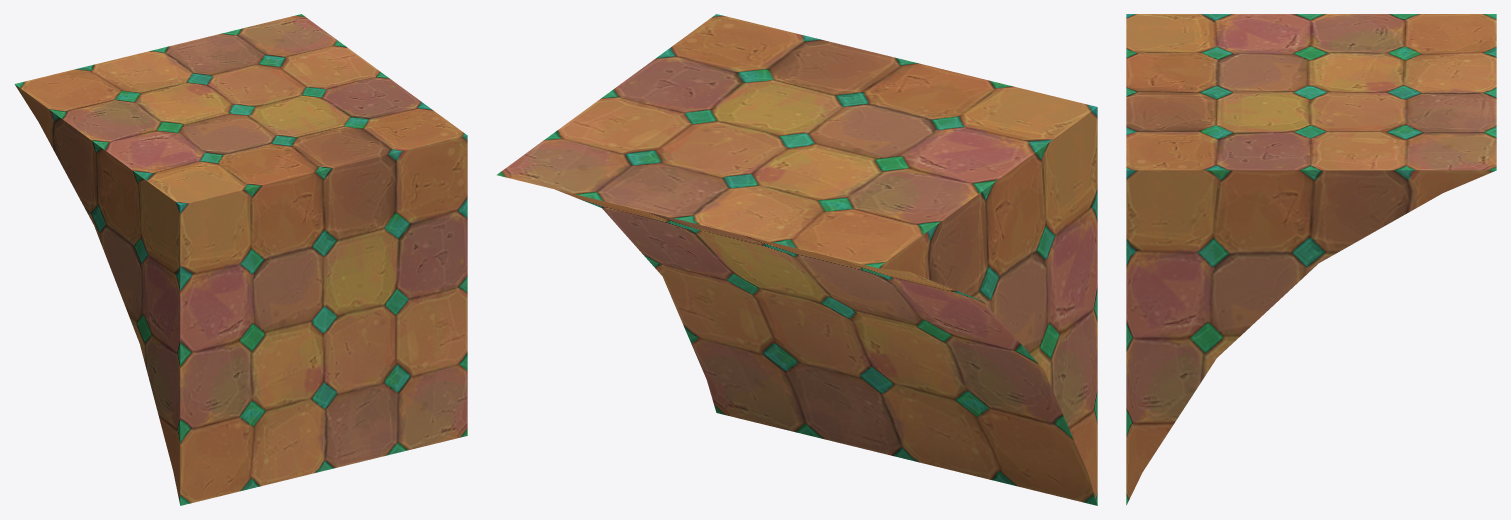
Rendered from POL0310006.fbx.
3 renders of one model, left to right at view 1: azimuth 30°, elevation 25°; view 2: azimuth 150°, elevation 25°; view 3: azimuth 270°, elevation 25°, orthographic. The views are drawn at different scales.
Visible parts, largest first — view 1: smPOL0310006; view 2: smPOL0310006; view 3: smPOL0310006.
Part boxes in pixels (x1,y1,x2,y2): smPOL0310006: [14, 14, 467, 505]; smPOL0310006: [497, 14, 1097, 505]; smPOL0310006: [1126, 14, 1496, 505].
Size of the model in its own units: 161 by 161 by 161.
Materials: 1 (1 with a texture image).
